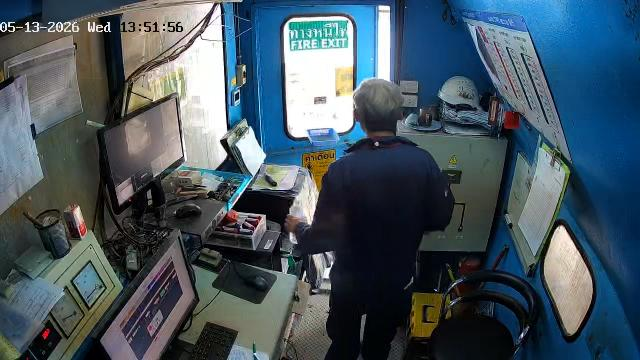Head: (354, 79, 403, 136)
People: (285, 79, 454, 359)
